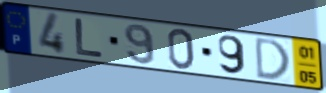0: (165, 27, 197, 71)
4: (36, 11, 67, 57)
9: (122, 23, 157, 66), (217, 34, 247, 76)
D: (254, 35, 292, 81)
L: (73, 16, 106, 59)
